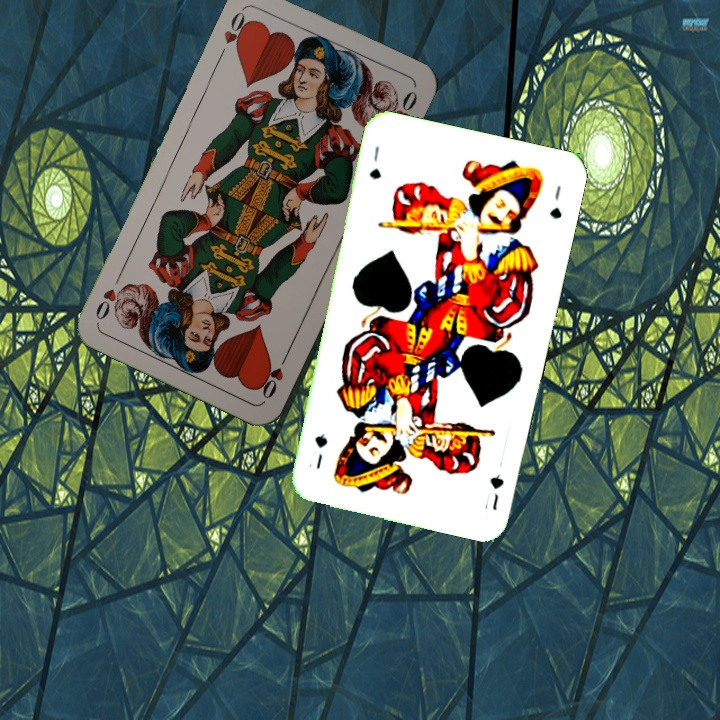GU: (486, 470, 507, 513), (365, 142, 384, 182)
HO: (255, 347, 292, 402), (219, 4, 255, 55)
